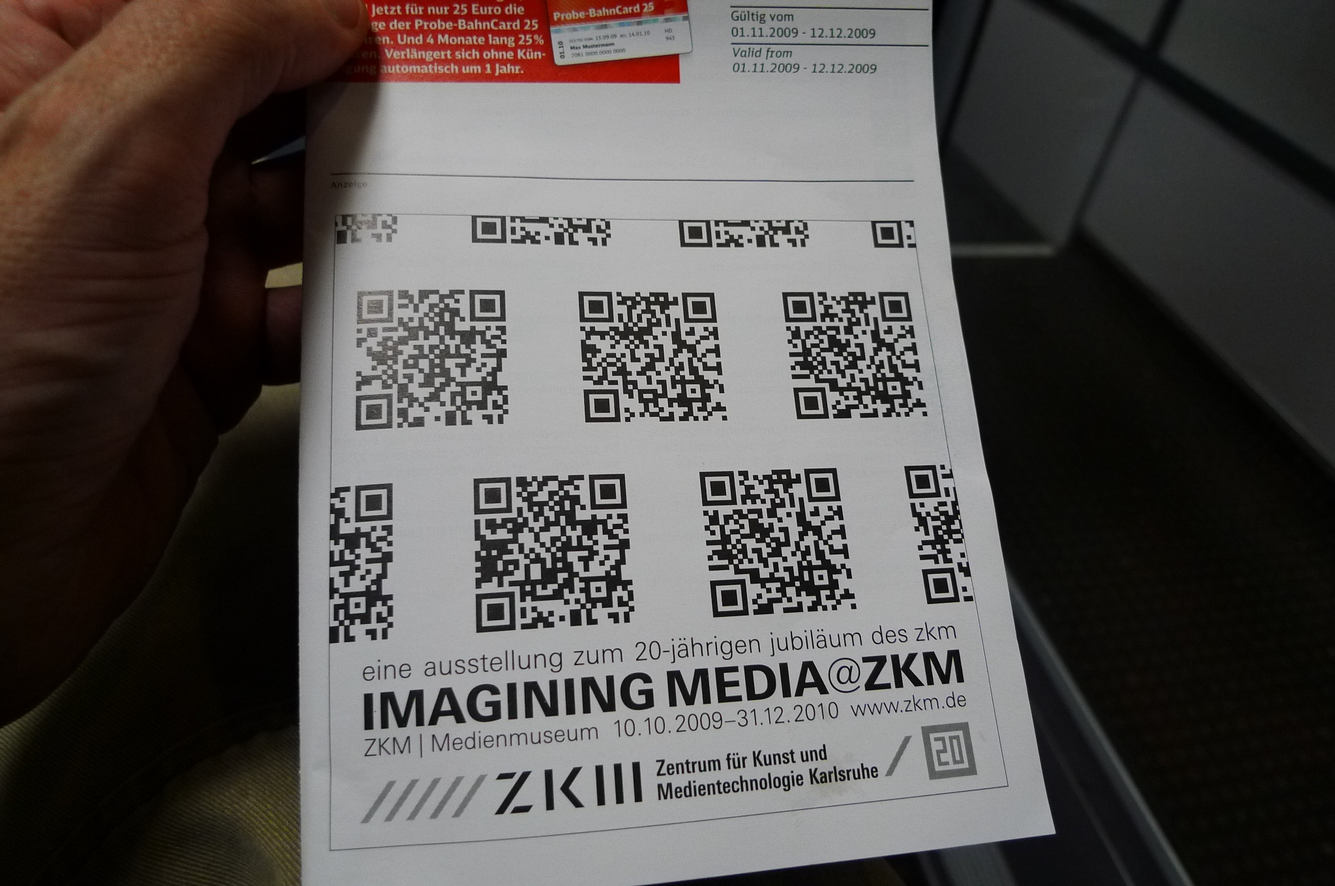QR-CODE: (473, 474, 636, 633), (699, 468, 857, 617), (355, 289, 508, 431), (578, 291, 727, 422), (782, 292, 927, 419), (329, 483, 393, 643), (903, 464, 975, 604), (471, 215, 611, 246), (678, 220, 810, 247), (335, 214, 397, 244), (870, 220, 916, 248)
